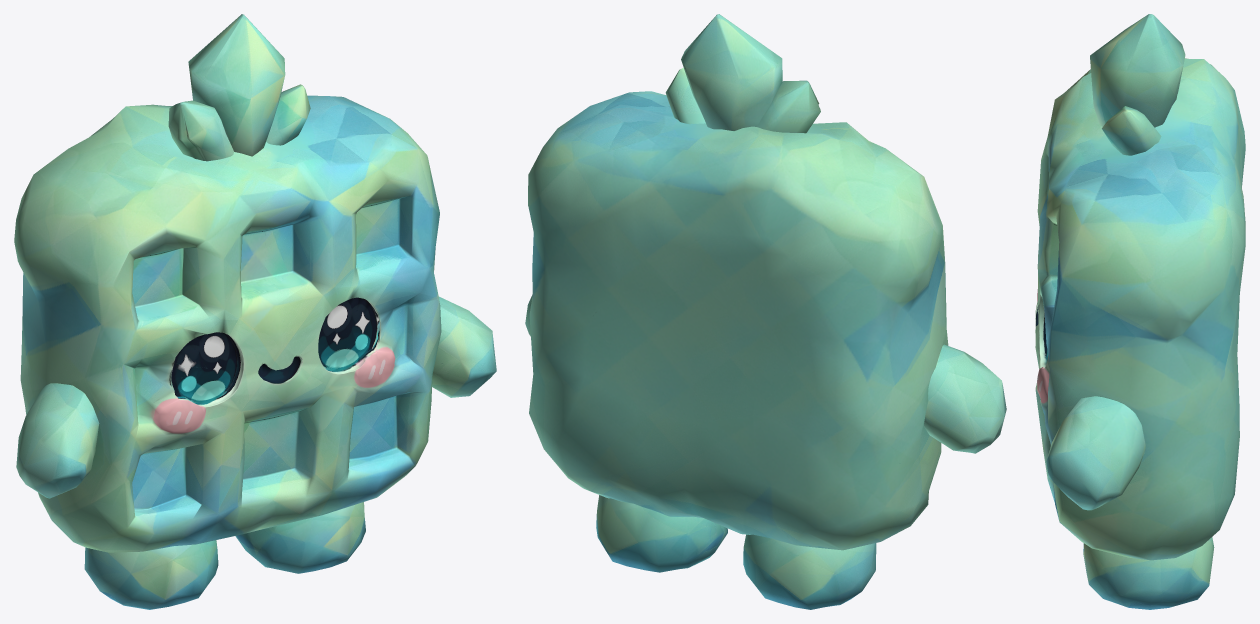
Rendered from source.fbx.
The picture shows the model from 3 angles, left to right: view 1: azimuth 30°, elevation 25°; view 2: azimuth 150°, elevation 25°; view 3: azimuth 270°, elevation 25°; orthographic projection.
Parts seen in each view (by area): view 1: Mesh_0; view 2: Mesh_0; view 3: Mesh_0.
Part boxes in pixels (x1,y1,x2,y2): Mesh_0: [14, 14, 496, 609]; Mesh_0: [525, 14, 1006, 609]; Mesh_0: [1035, 14, 1245, 609].
Size of the model in its own units: 62.03 by 70 by 24.21.
Materials: 1 (1 with a texture image).
